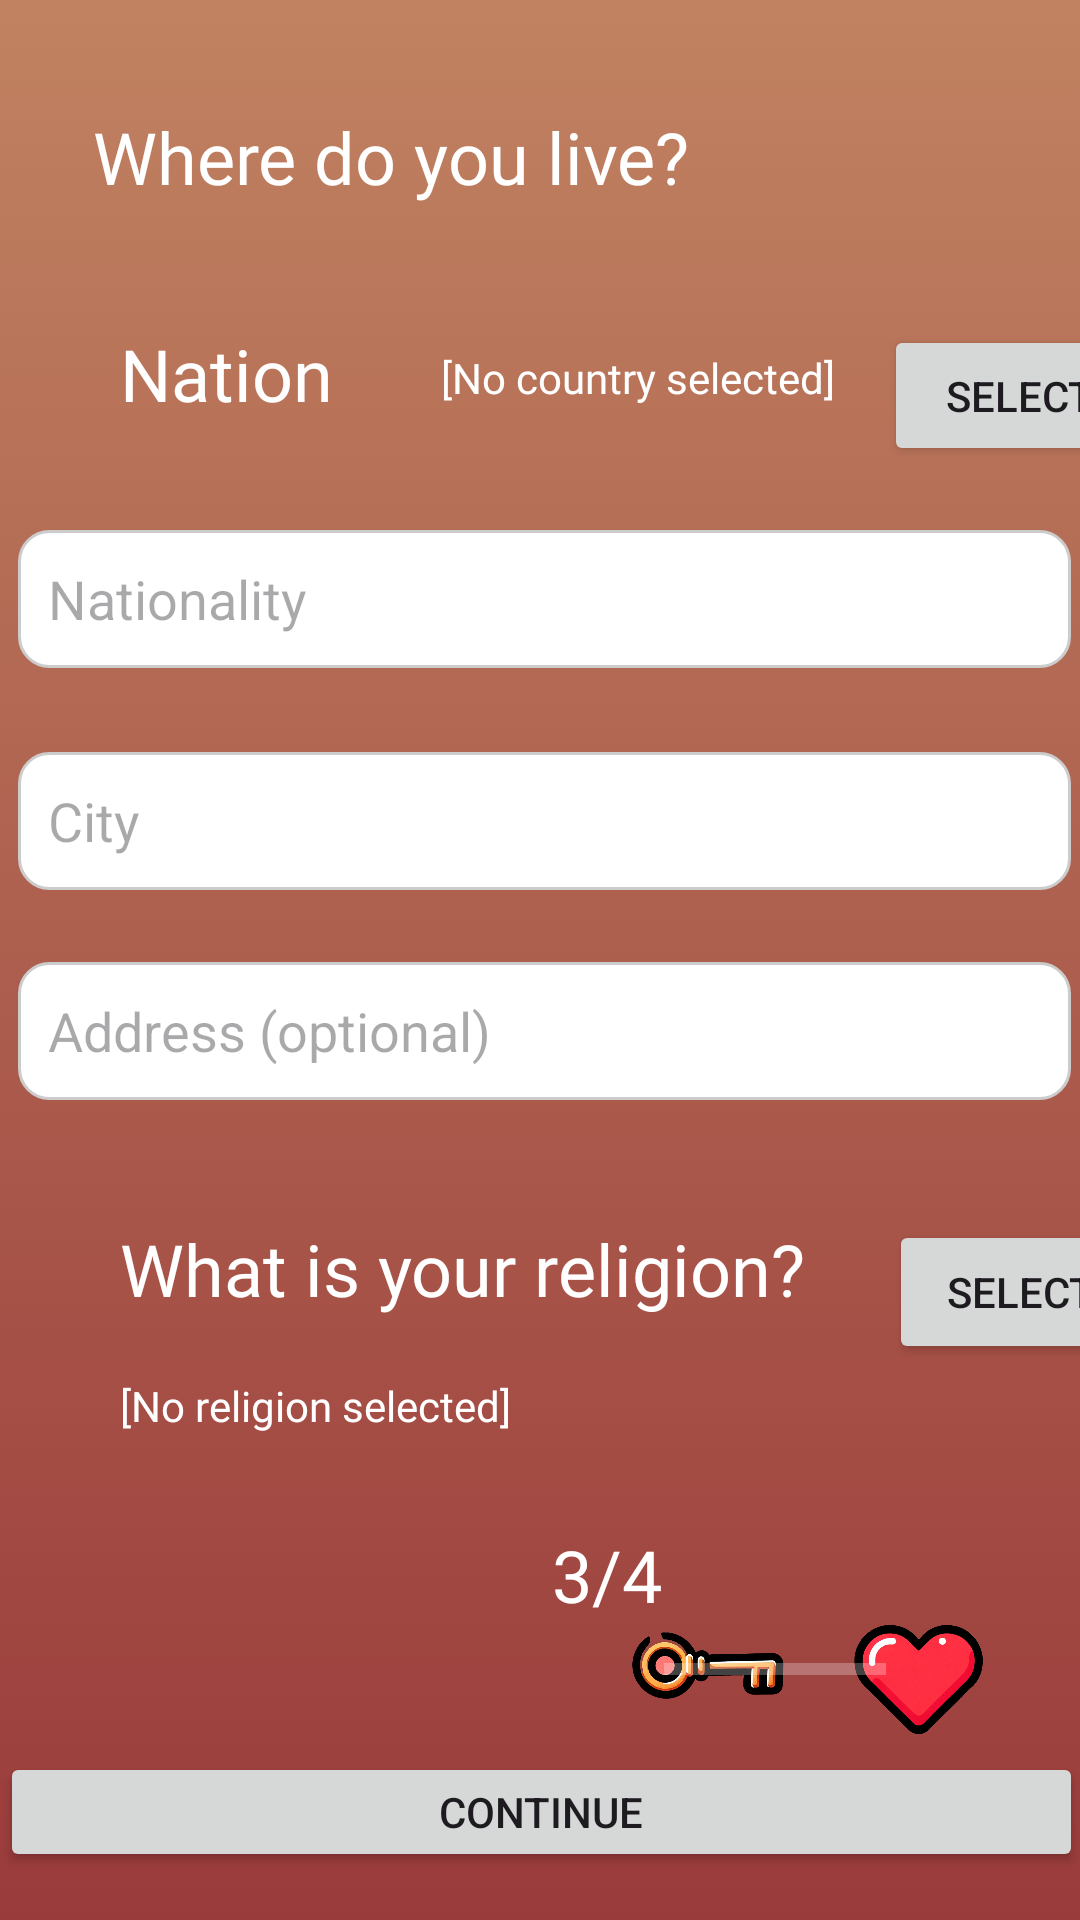

Icon bounding boxes for this 1080px x 1920px phone screenshot, format box(x1, y1, x2, y2):
heart: box(852, 1625, 983, 1734)
